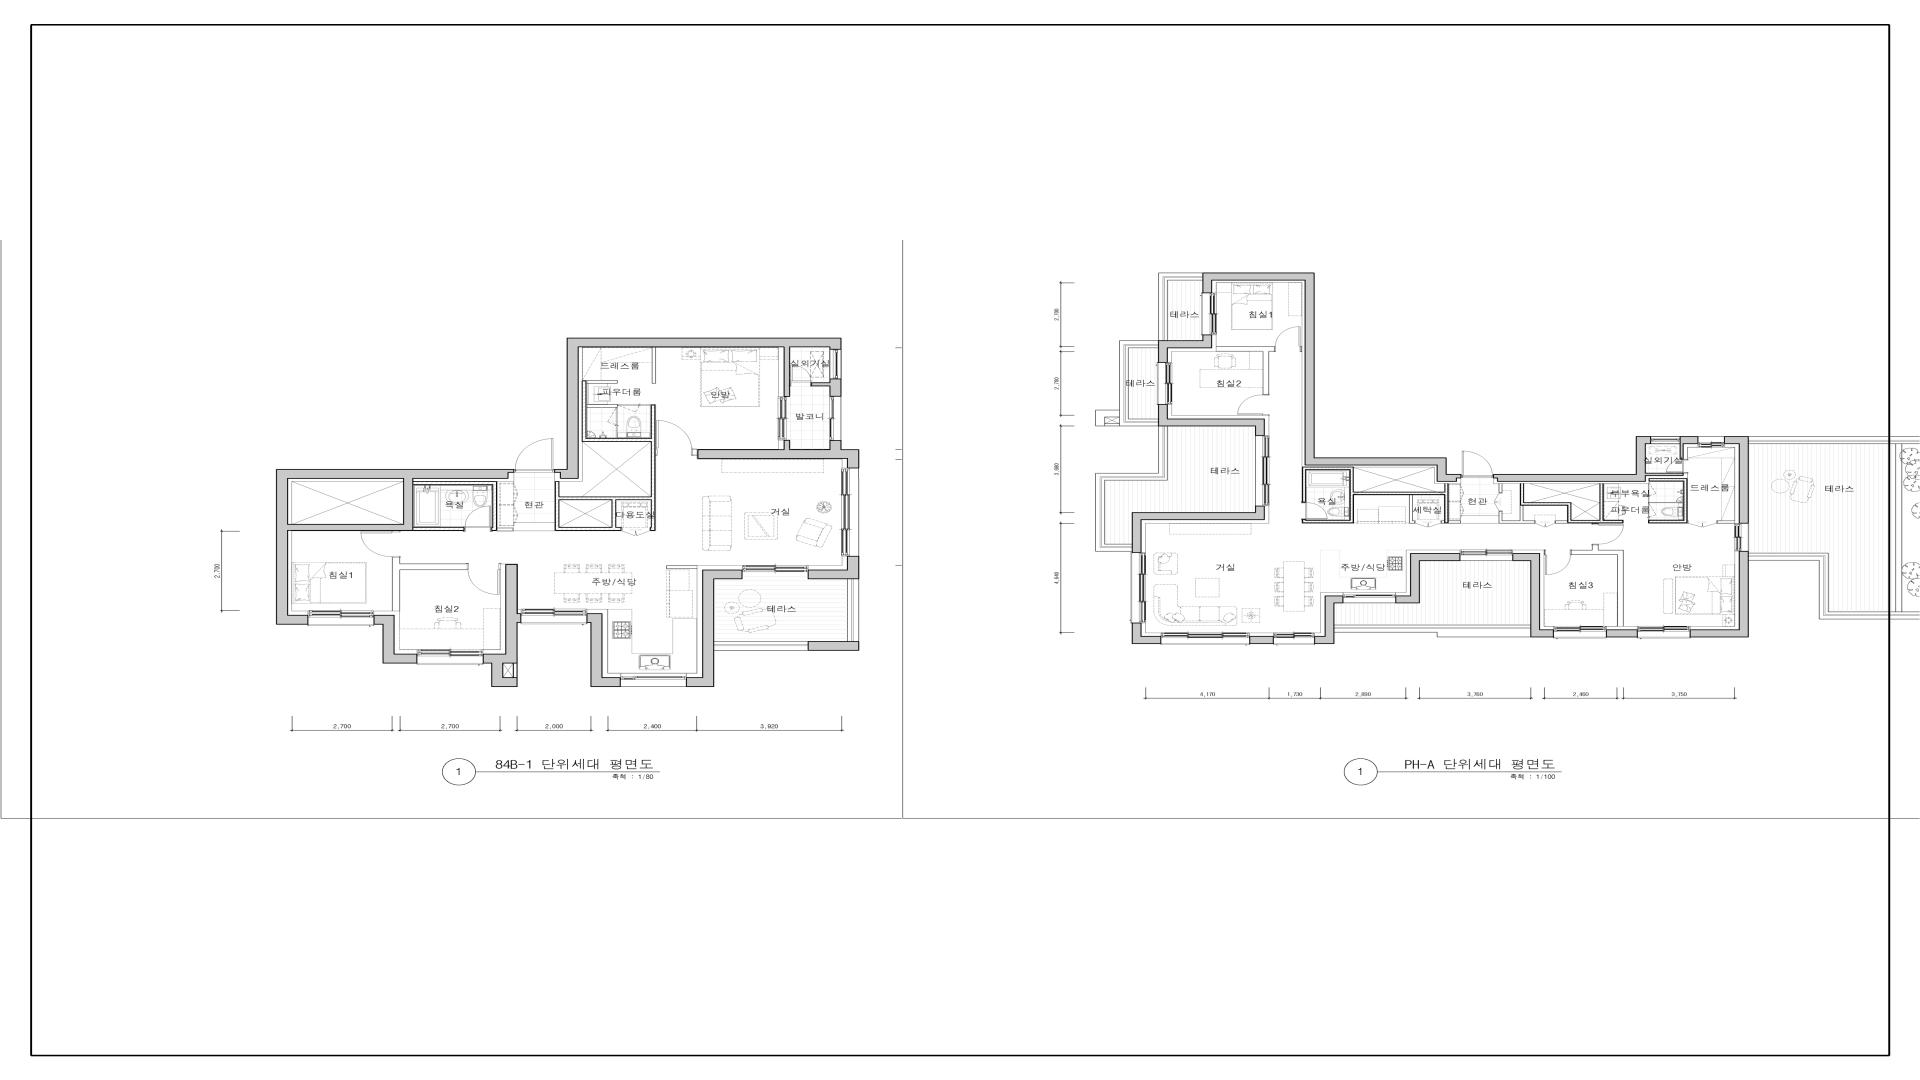door: (514, 439, 555, 472), (655, 421, 692, 456), (467, 563, 501, 595), (360, 531, 401, 558), (1461, 451, 1493, 479), (1237, 394, 1270, 415), (1592, 524, 1625, 545), (464, 506, 492, 531), (1275, 327, 1302, 352), (1544, 550, 1571, 575), (1302, 502, 1328, 520), (790, 365, 811, 386), (1667, 459, 1688, 473), (621, 527, 650, 537), (1688, 521, 1717, 527), (617, 405, 641, 413), (1415, 521, 1441, 527), (608, 407, 617, 426), (1535, 521, 1556, 527), (1648, 502, 1656, 517), (1648, 481, 1656, 496)
wall: (1203, 273, 1461, 481), (554, 338, 841, 479), (276, 469, 514, 625), (555, 381, 655, 531), (1302, 467, 1461, 524), (1493, 436, 1684, 481), (686, 570, 742, 687), (289, 479, 414, 531), (1131, 506, 1265, 553), (1689, 551, 1749, 638), (1499, 483, 1623, 524), (414, 481, 513, 531), (483, 564, 521, 687), (698, 440, 860, 468), (1571, 545, 1623, 626), (392, 558, 467, 612), (1158, 404, 1265, 436), (1513, 554, 1553, 638), (1395, 554, 1461, 604), (1216, 347, 1275, 394), (587, 613, 621, 687), (373, 615, 418, 663), (1725, 436, 1749, 524), (1648, 479, 1688, 524), (1158, 335, 1212, 363), (1315, 596, 1344, 645), (808, 556, 860, 579), (1131, 622, 1162, 645), (811, 378, 841, 397), (808, 641, 860, 651), (1680, 436, 1698, 459), (1606, 629, 1638, 637), (1648, 496, 1683, 502), (414, 527, 464, 531), (1249, 636, 1274, 644), (651, 348, 655, 384), (666, 566, 698, 570), (587, 380, 617, 384), (612, 500, 616, 527), (587, 405, 617, 407), (513, 663, 518, 678), (1717, 521, 1735, 524), (692, 448, 698, 455), (1499, 484, 1502, 493), (616, 426, 617, 438), (641, 405, 650, 406), (1648, 518, 1650, 520)
window: (841, 468, 860, 556), (1130, 553, 1146, 622), (1162, 633, 1249, 645), (309, 611, 373, 626), (1255, 436, 1270, 506), (521, 609, 587, 624), (418, 650, 483, 665), (742, 566, 808, 579), (715, 642, 808, 651), (621, 674, 686, 687), (848, 579, 860, 641), (1201, 293, 1217, 335), (1156, 363, 1172, 404), (1555, 626, 1606, 638), (1638, 626, 1689, 638), (1344, 592, 1395, 604), (1461, 550, 1513, 560), (829, 397, 841, 440), (778, 397, 790, 440), (1274, 633, 1315, 645), (1734, 524, 1749, 551), (829, 349, 841, 378), (1698, 436, 1724, 447), (1651, 436, 1680, 444)
